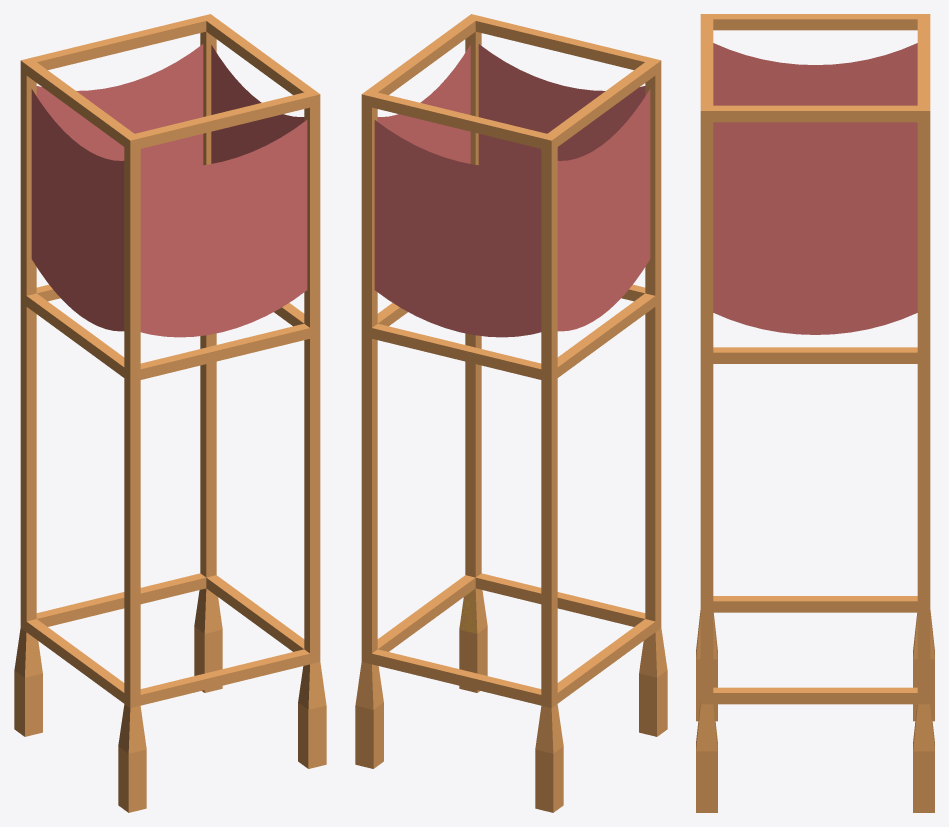
The model's file is bannerTowerRed.glb.
3 views of the same model, side by side, from view 1: azimuth 30°, elevation 25°; view 2: azimuth 150°, elevation 25°; view 3: azimuth 270°, elevation 25° (orthographic). The views are drawn at different scales.
Visible parts, largest first — view 1: bannerTowerRed(Clone); view 2: bannerTowerRed(Clone); view 3: bannerTowerRed(Clone).
Part boxes in pixels (<box>): bannerTowerRed(Clone): <box>14,14,326,812</box>; bannerTowerRed(Clone): <box>355,14,667,812</box>; bannerTowerRed(Clone): <box>696,14,934,812</box>.
Size of the model in its own units: 0.3852 by 1.25 by 0.3852.
